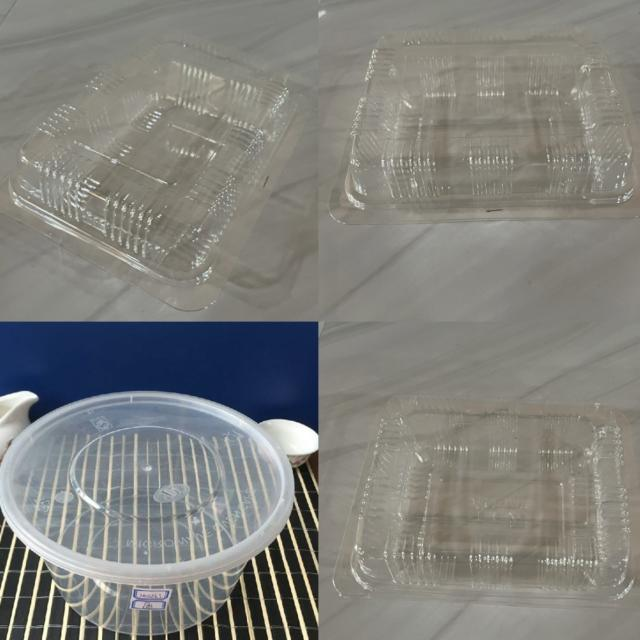plastik: (0, 33, 310, 310), (0, 391, 294, 636), (334, 395, 640, 608), (330, 28, 640, 224)
